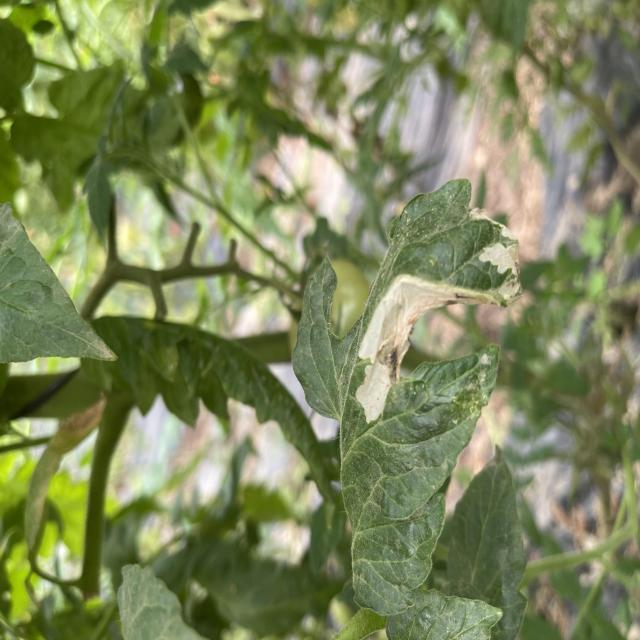Tuta absoluta: (311, 243, 490, 429)
